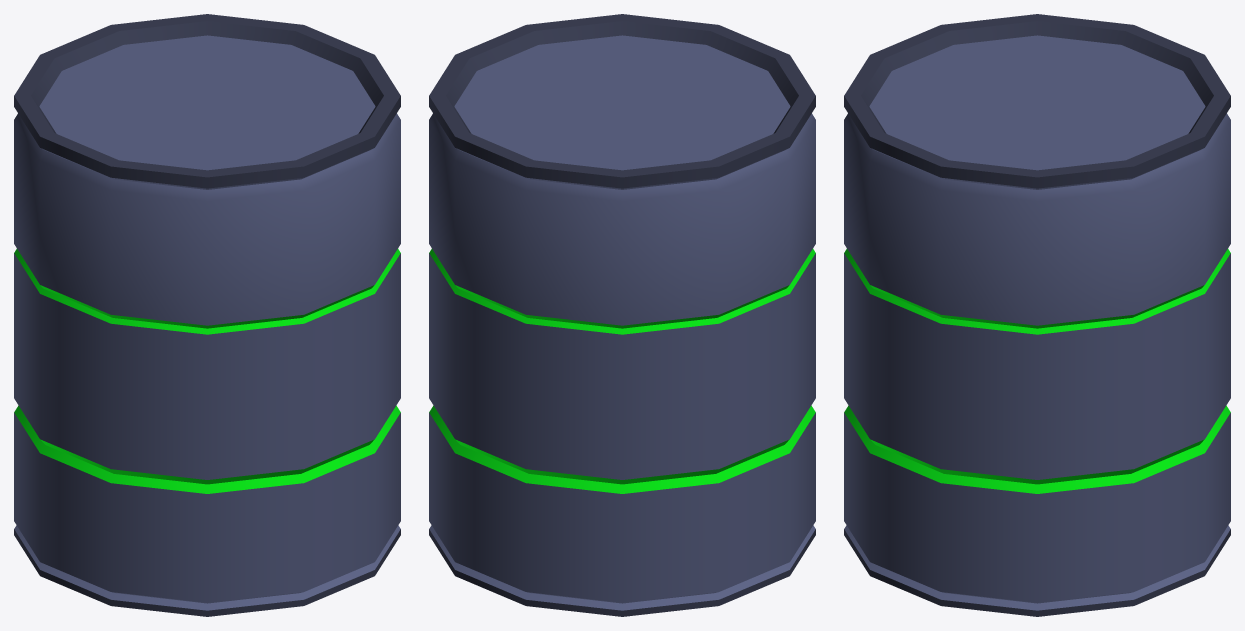
Rendered from bar1.fbx.
3 renders of one model, left to right at view 1: azimuth 30°, elevation 25°; view 2: azimuth 150°, elevation 25°; view 3: azimuth 270°, elevation 25°, orthographic.
Parts seen in each view (by area): view 1: Cylinder.010; view 2: Cylinder.010; view 3: Cylinder.010.
Part boxes in pixels (x1,y1,x2,y2): Cylinder.010: (14,14,400,616); Cylinder.010: (429,14,815,616); Cylinder.010: (844,14,1230,616).
Size of the model in its own units: 57.88 by 72.59 by 57.88.
